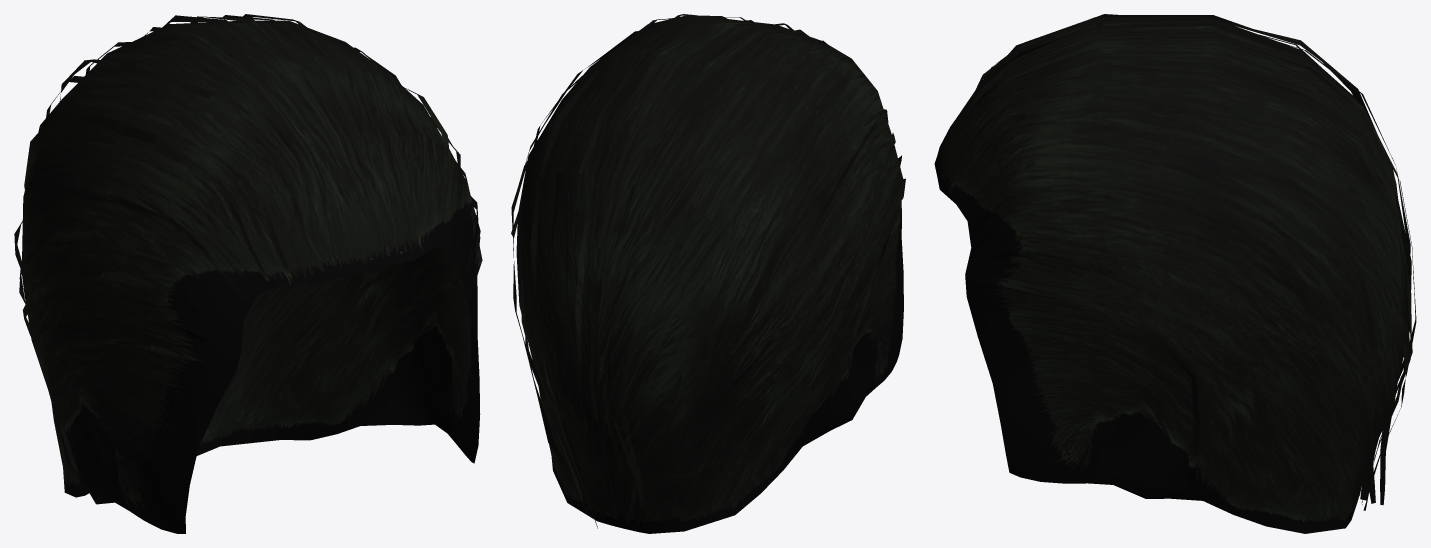
The model's file is makehuman-hair.glb.
3 renders of one model, left to right at view 1: azimuth 30°, elevation 25°; view 2: azimuth 150°, elevation 25°; view 3: azimuth 270°, elevation 25°, orthographic. The views are drawn at different scales.
Parts seen in each view (by area): view 1: Hair; view 2: Hair; view 3: Hair.
Boxes of the visible parts, bbox=[...] form: Hair: bbox=[14, 14, 482, 533]; Hair: bbox=[511, 14, 905, 533]; Hair: bbox=[934, 14, 1416, 533].
Bounding box in the file's own units: 0.1611 × 0.2082 × 0.192.
Materials: 1 (1 with a texture image).
